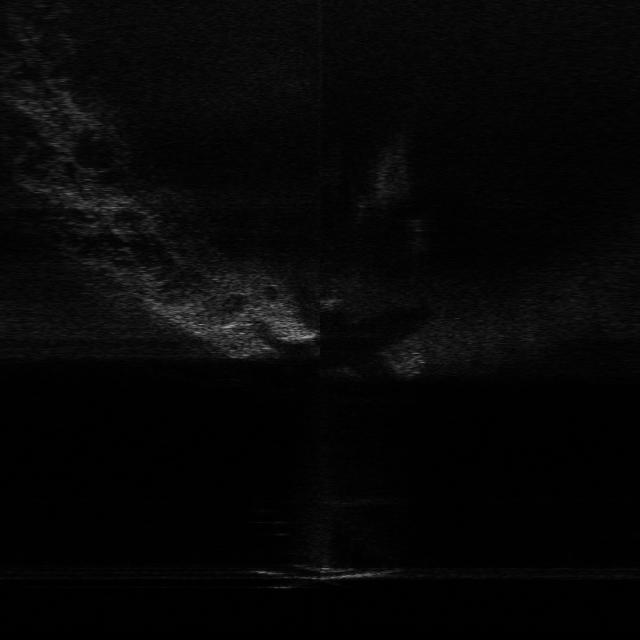plane: (240, 562, 402, 589)
